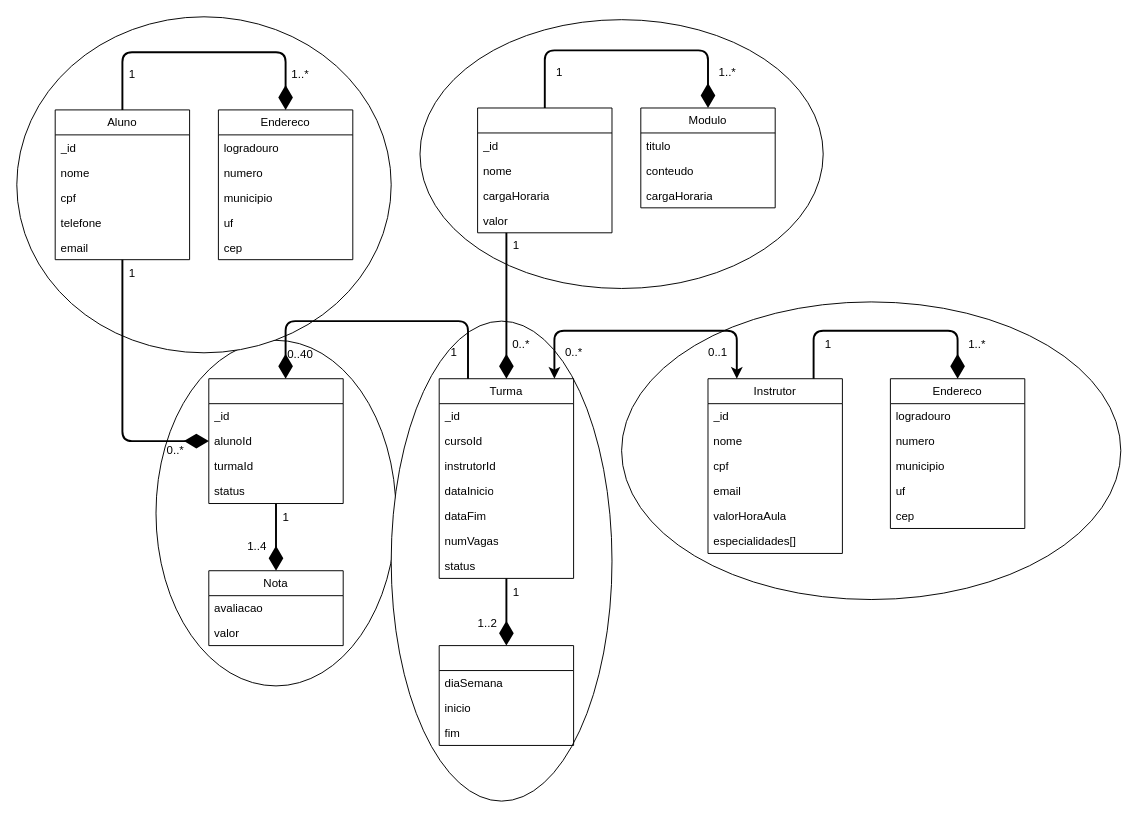
Image size: 1138x818. Some labels were removed from this diagram. Here are the shapes that lost their labels. From the top down, the box of each, then its label:
(477, 107, 612, 233): Curso
(208, 378, 343, 504): Matricula
(438, 645, 574, 745): Horario
